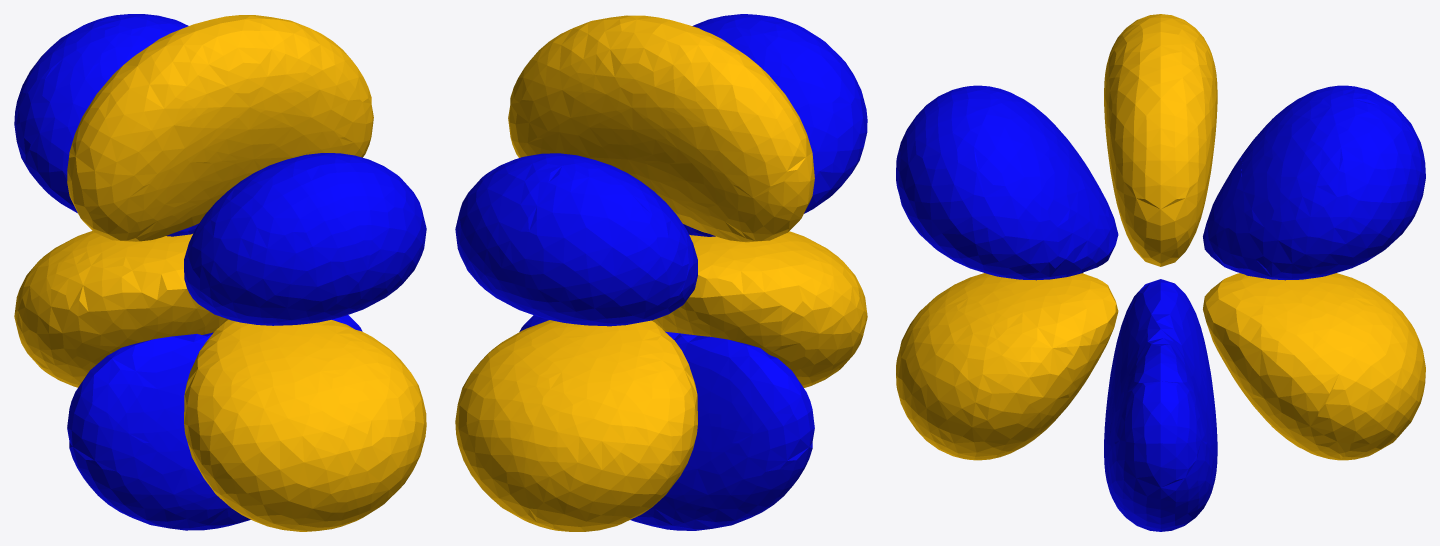
3 views of the same model, side by side, from view 1: azimuth 30°, elevation 25°; view 2: azimuth 150°, elevation 25°; view 3: azimuth 270°, elevation 25° (orthographic). The views are drawn at different scales.
Size of the model in its own units: 15.07 by 24.14 by 24.04.
